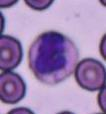N: (28, 31, 78, 84)
